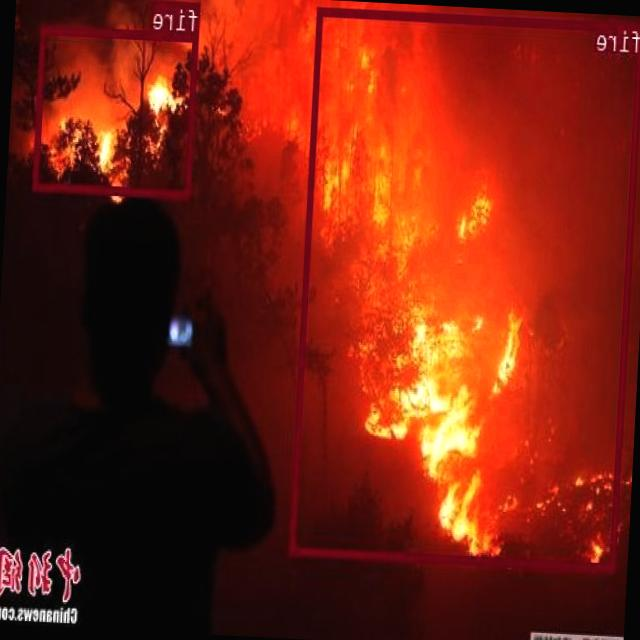fire: (291, 6, 640, 571), (34, 24, 200, 198)
